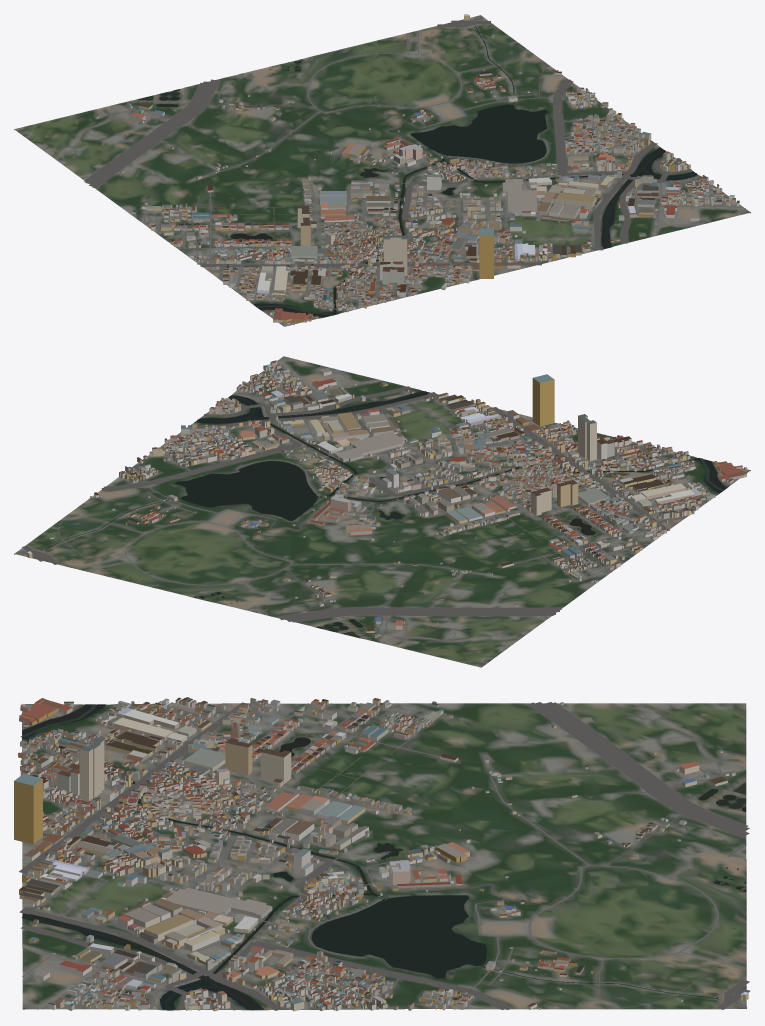
3 renders of one model, top to bottom at view 1: azimuth 30°, elevation 25°; view 2: azimuth 150°, elevation 25°; view 3: azimuth 270°, elevation 25°, orthographic. The views are drawn at different scales.
Visible parts, largest first — view 1: ground, buildings, roads, water; view 2: ground, buildings, roads, water; view 3: ground, buildings, roads, water.
Part boxes in pixels (x1,y1,x2,y2): ground: (14,15,750,326); buildings: (83,14,739,325); roads: (82,15,745,323); water: (136,26,697,317); ground: (14,356,750,667); buildings: (27,360,747,643); roads: (14,357,708,647); water: (40,391,726,637); ground: (22,703,746,1010); buildings: (14,697,748,1011); roads: (19,702,750,1010); water: (20,704,745,1010).
Bounding box in the file's own units: 1418 × 129 × 1427.
